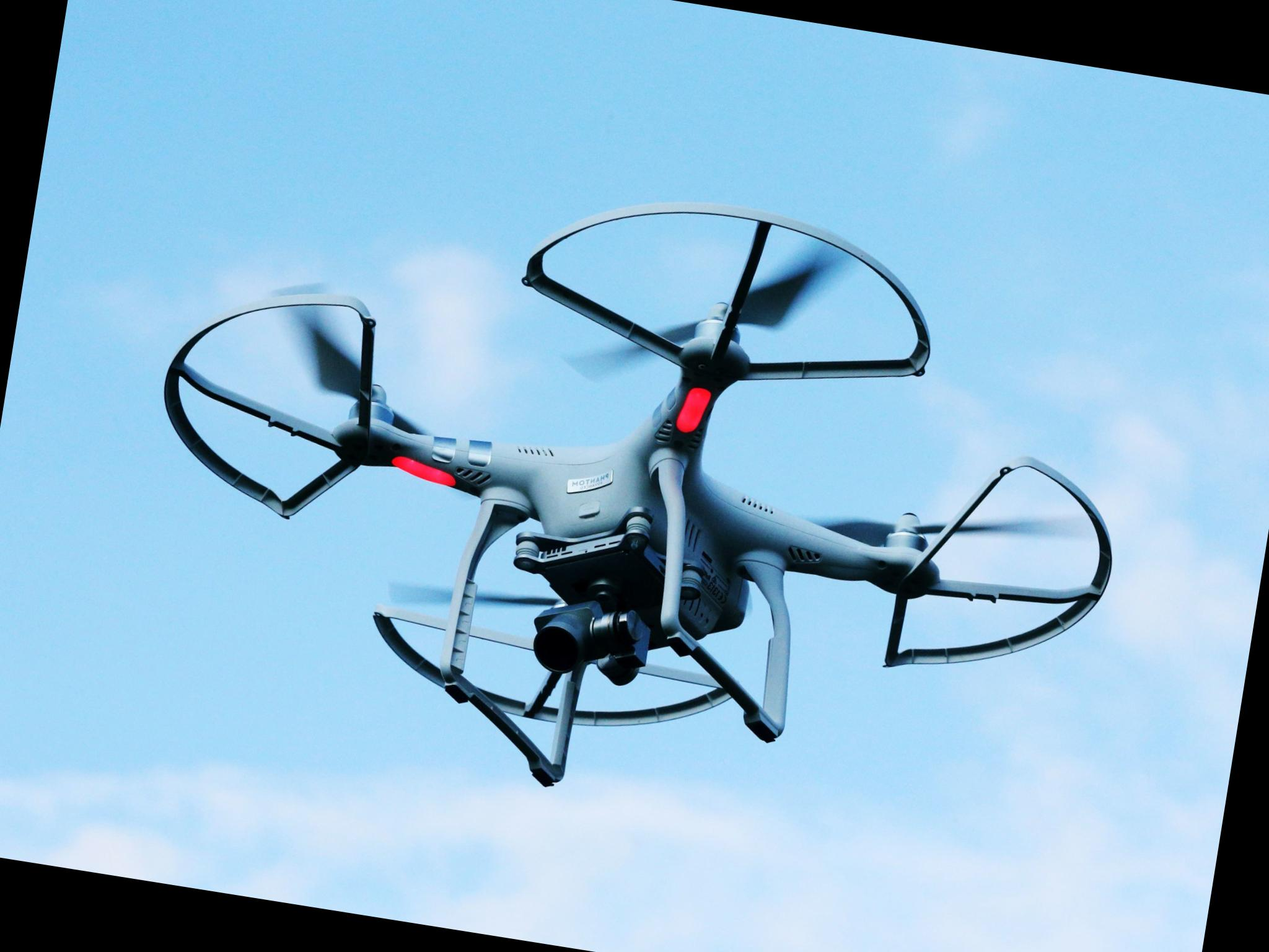drone: (55, 98, 1218, 890)
